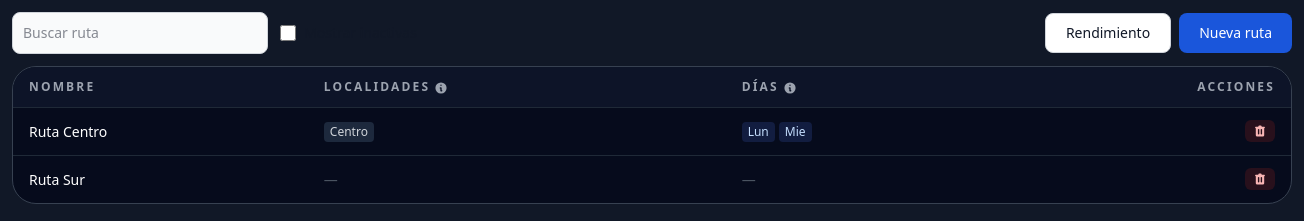
Scenario: RoutesTab › filtra rutas por nombre
This screenshot has width=1304, height=221.
Type "sur" into the field with placeholder "Buscar ruta". click: [140, 33]
box: [12,12,268,54]
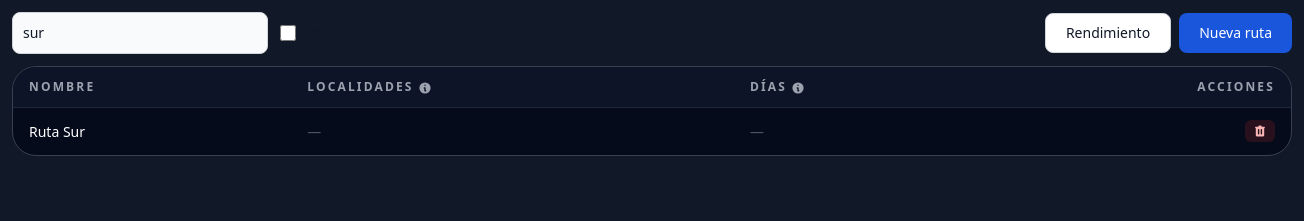
Check: the text "Ruta Sur" is shown, box [29,122,85,142]
Check: the text "Ruta Centro" is gone
